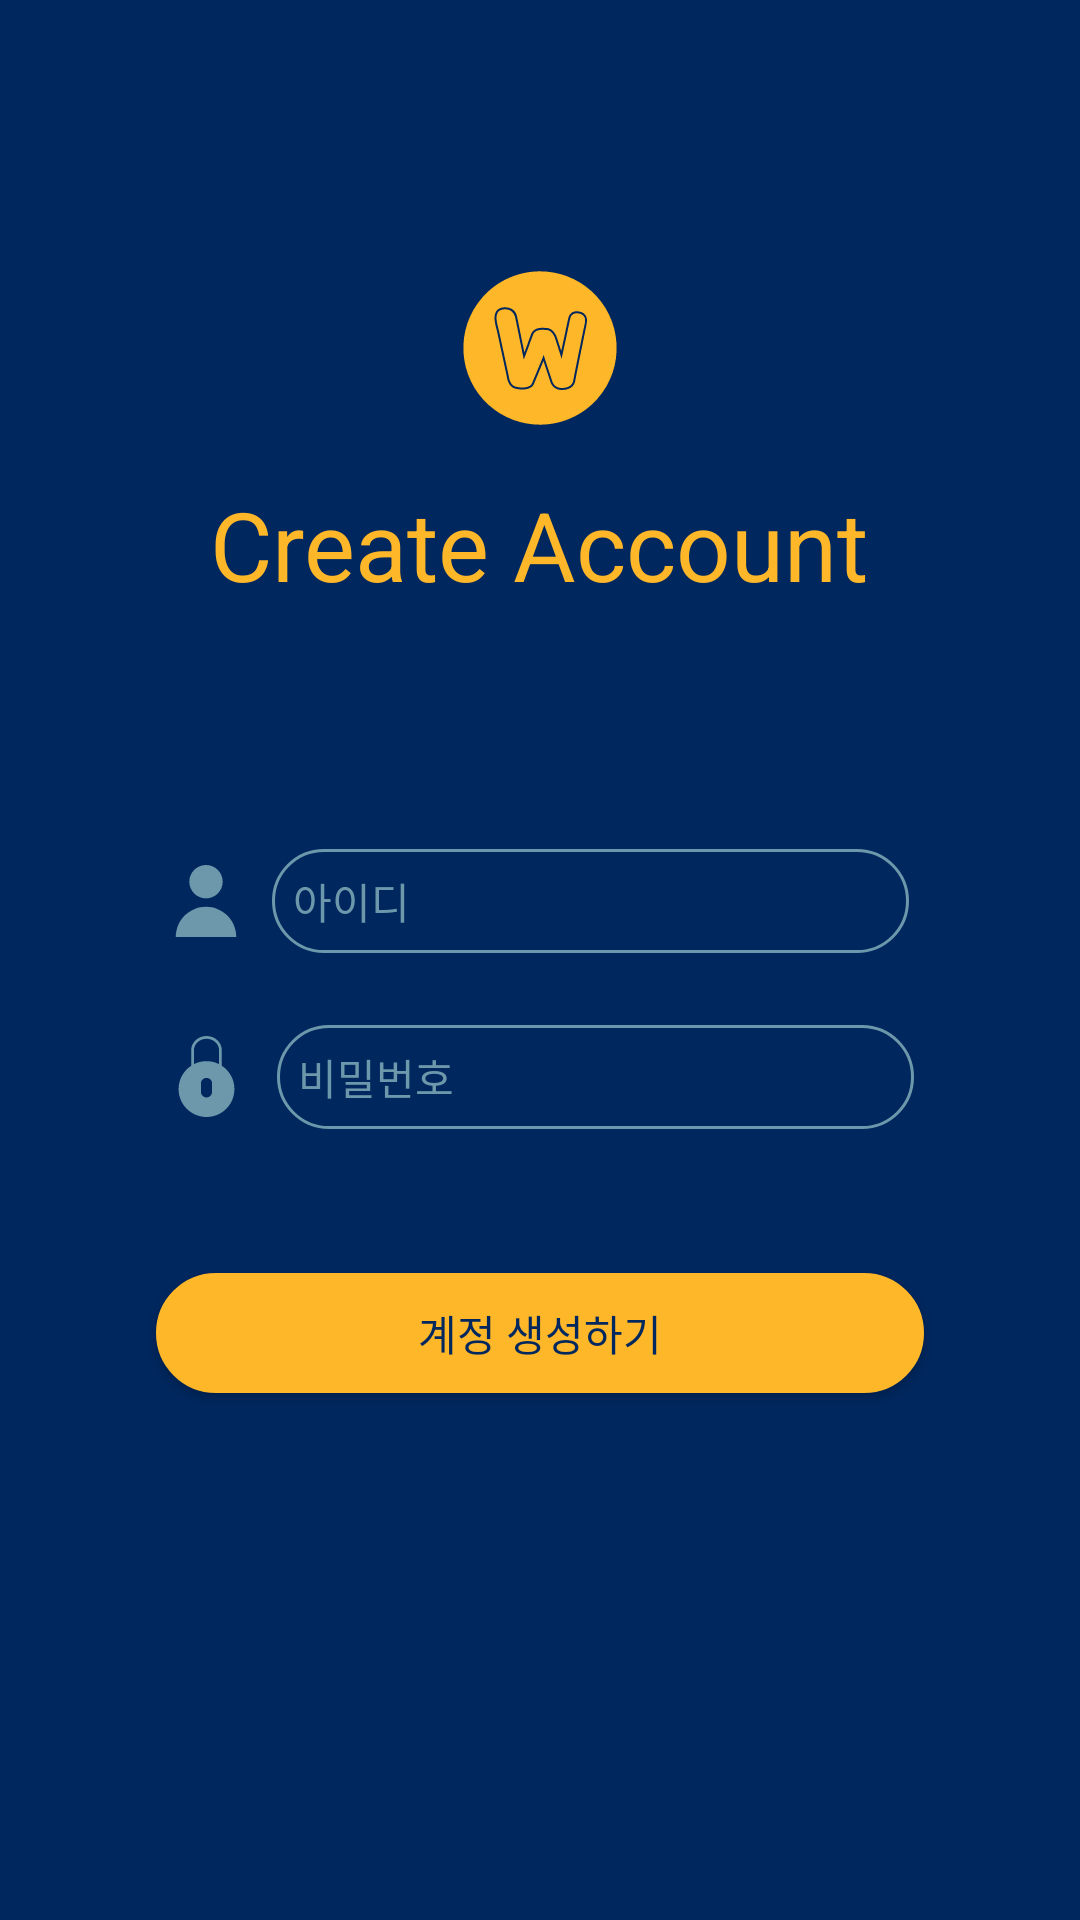

Where icons sit on this 1080px x 1920px app screen, as (x1, y1, x2, y2):
locked: (178, 1036, 235, 1117)
user: (176, 865, 236, 937)
